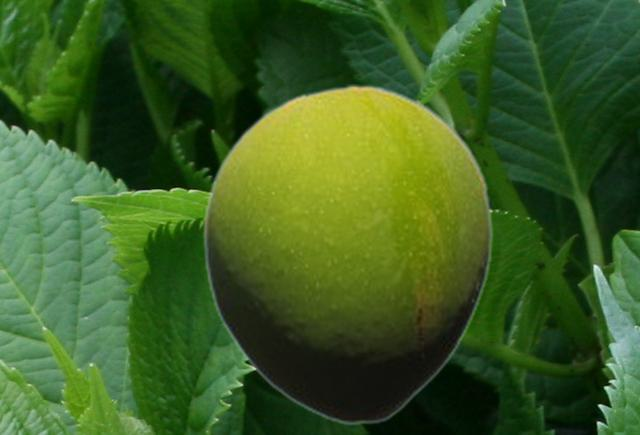green_mango: (202, 84, 493, 425)
